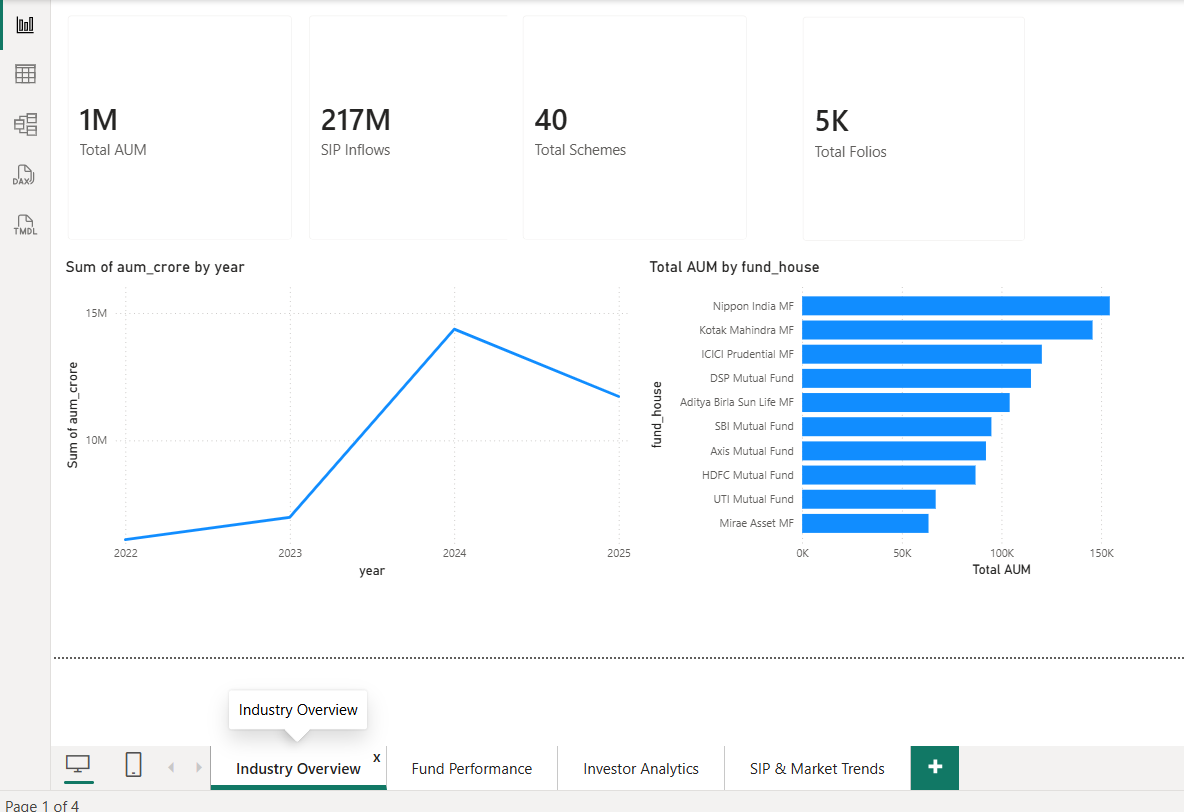

What the dashboard file says about the page in this screenshot:
{"tool":"powerbi","page":{"name":"Industry Overview","canvas":[1280,720],"ordinal":0},"visuals":[{"type":"cardVisual","fields":{"Data":["01_fund_master.Total AUM"]},"box":[1.4,0,280.4,280.4],"z":0},{"type":"cardVisual","fields":{"Data":["01_fund_master.SIP Inflows"]},"box":[266.6,0,280.4,280.4],"z":1000},{"type":"cardVisual","fields":{"Data":["01_fund_master.Total Schemes"]},"box":[500,0,280.4,280.4],"z":2000},{"type":"cardVisual","fields":{"Data":["01_fund_master.Total Folios"]},"box":[807.9,1.4,279,280.4],"z":3000},{"type":"lineChart","fields":{"Category":["dim_date.year"],"Y":["Sum(03_aum_by_fund_house.aum_crore)"]},"box":[11,281.7,629.8,356.3],"z":4000},{"type":"clusteredBarChart","fields":{"Category":["01_fund_master.fund_house"],"Y":["01_fund_master.Total AUM"]},"box":[651,282,629,356],"z":5000}]}

Visuals, with their boxes on the page's 1280x720 design canvas (x1, y1, x2, y2). These are canvas units, not pixel positions in the 1184x812 screenshot, which may show the page scaled, cropped or inside an application window:
cardVisual - 01_fund_master.Total AUM: [x1=1, y1=0, x2=282, y2=280]
cardVisual - 01_fund_master.SIP Inflows: [x1=267, y1=0, x2=547, y2=280]
cardVisual - 01_fund_master.Total Schemes: [x1=500, y1=0, x2=780, y2=280]
cardVisual - 01_fund_master.Total Folios: [x1=808, y1=1, x2=1087, y2=282]
lineChart - dim_date.year x Sum(03_aum_by_fund_house.aum_crore): [x1=11, y1=282, x2=641, y2=638]
clusteredBarChart - 01_fund_master.fund_house x 01_fund_master.Total AUM: [x1=651, y1=282, x2=1280, y2=638]
